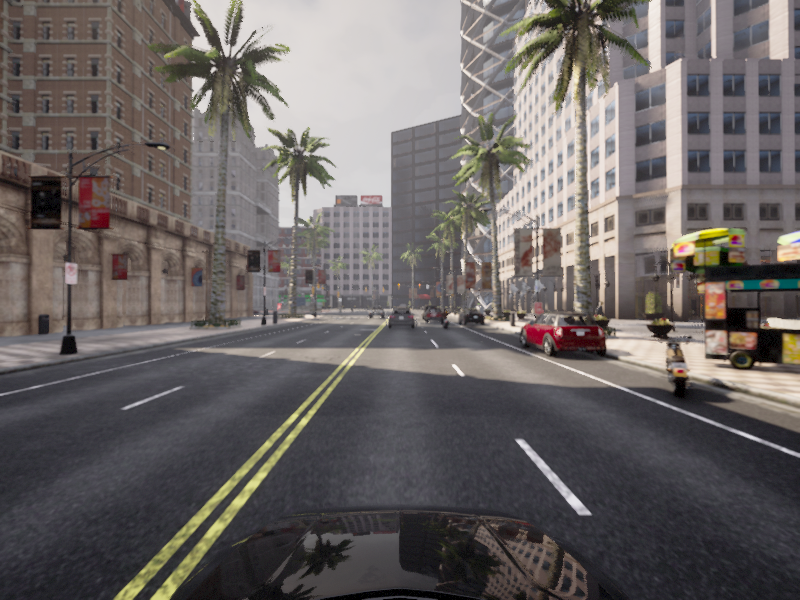vehicle: (387, 307, 415, 328), (423, 307, 445, 323), (438, 308, 451, 330), (391, 306, 411, 320), (421, 304, 438, 320)
